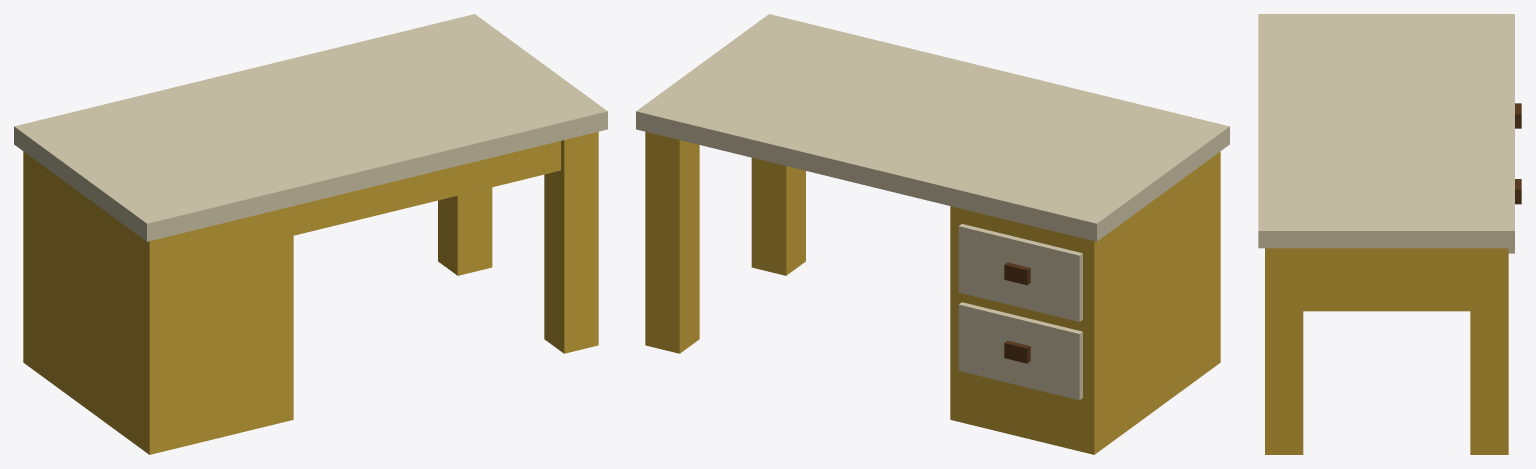
File: ncb-desk-yellow.glb
3 renders of one model, left to right at view 1: azimuth 30°, elevation 25°; view 2: azimuth 150°, elevation 25°; view 3: azimuth 270°, elevation 25°, orthographic. The views are drawn at different scales.
Visible parts, largest first — view 1: box-prop; view 2: box-prop; view 3: box-prop.
Boxes of the visible parts, bbox=[...] form: box-prop: bbox=[14, 14, 607, 454]; box-prop: bbox=[636, 14, 1229, 454]; box-prop: bbox=[1258, 14, 1521, 454].
Size of the model in its own units: 1.6 by 0.78 by 0.82.
